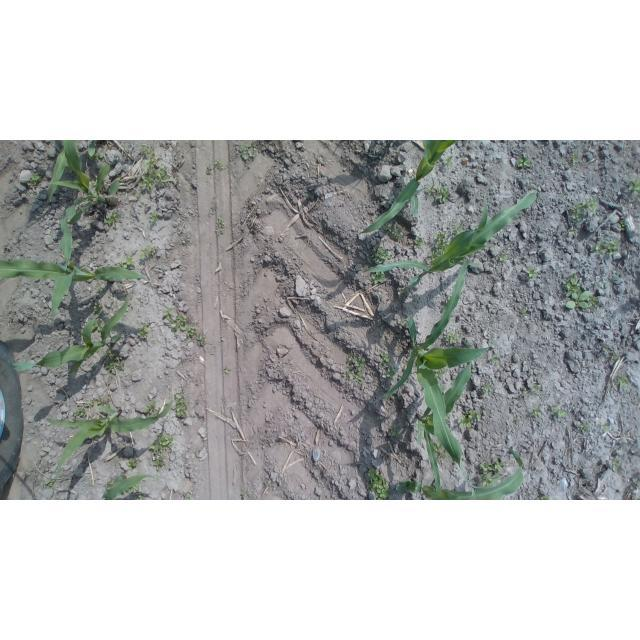Maize: (382, 259, 507, 491), (362, 187, 539, 289), (0, 257, 150, 327), (47, 397, 174, 479), (12, 292, 130, 374), (359, 140, 464, 232), (410, 363, 473, 494), (58, 141, 120, 270), (395, 448, 525, 500), (101, 473, 157, 500), (47, 141, 70, 202)
Weeds: (562, 273, 598, 309), (139, 156, 170, 193), (164, 307, 196, 337), (478, 458, 504, 487), (368, 468, 391, 500), (429, 230, 449, 262), (343, 357, 366, 384), (571, 198, 597, 221), (148, 434, 174, 455), (104, 348, 125, 374), (379, 352, 397, 381), (592, 239, 621, 256), (372, 244, 393, 265), (426, 186, 448, 205), (460, 410, 482, 429), (176, 390, 189, 419), (87, 140, 105, 160), (240, 142, 257, 160), (432, 442, 450, 459), (385, 225, 404, 241), (104, 212, 121, 229), (137, 323, 152, 341), (126, 456, 140, 473), (117, 256, 135, 269), (516, 155, 532, 169), (628, 177, 640, 195), (97, 394, 112, 408), (141, 245, 156, 259), (153, 455, 166, 471), (444, 332, 460, 345), (27, 173, 41, 187), (144, 402, 157, 417), (452, 223, 465, 238), (370, 272, 384, 285), (615, 374, 629, 387), (216, 217, 225, 236), (414, 236, 427, 249), (73, 409, 88, 420), (94, 300, 104, 316), (139, 144, 153, 155), (525, 267, 537, 279), (91, 319, 102, 332), (44, 477, 56, 488), (580, 423, 592, 434), (434, 368, 447, 377), (125, 484, 139, 492), (555, 411, 566, 421), (197, 335, 207, 345), (499, 251, 509, 261), (390, 427, 400, 437), (150, 212, 159, 223), (532, 384, 543, 393), (488, 355, 500, 363), (105, 479, 114, 489), (443, 156, 453, 165), (481, 383, 489, 394), (601, 424, 610, 433), (531, 408, 541, 416), (621, 220, 628, 231), (216, 160, 224, 169), (571, 152, 577, 164), (86, 401, 96, 408), (134, 494, 145, 500), (183, 492, 191, 500), (549, 404, 557, 412), (521, 308, 528, 317), (240, 492, 248, 499), (613, 460, 620, 468), (540, 495, 550, 500), (225, 369, 232, 376), (68, 167, 75, 174), (514, 415, 521, 422), (397, 318, 405, 324), (121, 473, 128, 479), (91, 179, 97, 186), (403, 288, 409, 295), (465, 343, 472, 349), (522, 391, 529, 397), (124, 308, 129, 316), (440, 384, 445, 392), (611, 356, 619, 361), (96, 285, 102, 291), (567, 228, 573, 234), (446, 296, 451, 301), (323, 140, 329, 144), (162, 496, 167, 500), (604, 346, 608, 350), (118, 178, 121, 181)
